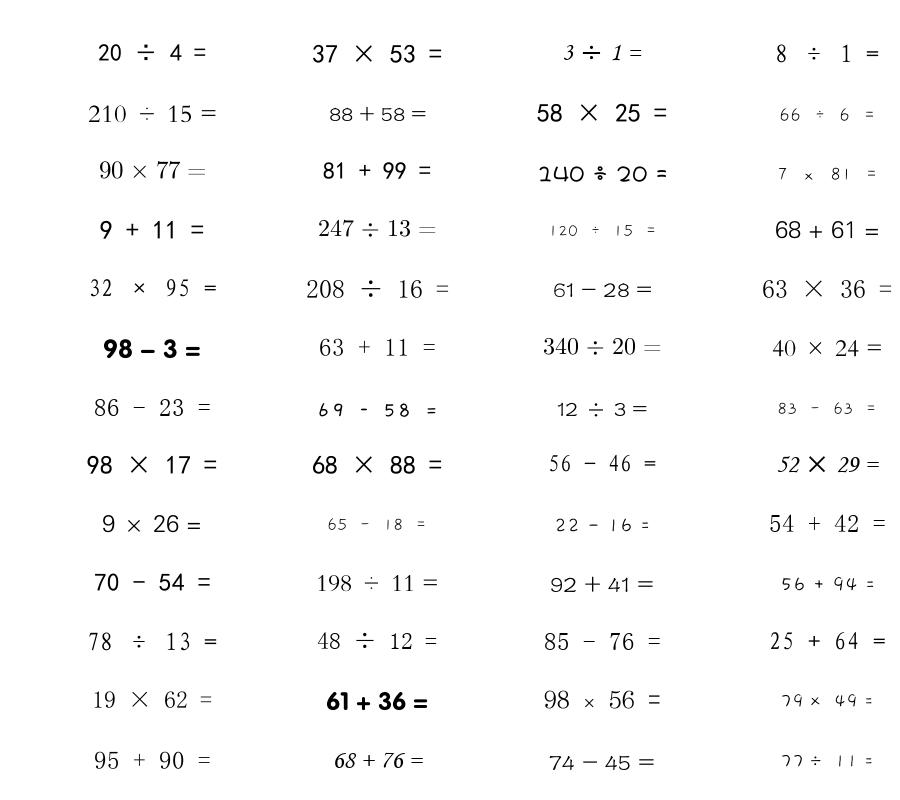MQ: (306, 279, 449, 298), (312, 44, 442, 63), (537, 103, 667, 122), (87, 455, 217, 474), (312, 455, 442, 474), (87, 632, 217, 651), (762, 280, 892, 298), (88, 105, 217, 123), (88, 279, 217, 297), (94, 573, 211, 592), (544, 690, 661, 709), (318, 219, 437, 237), (543, 337, 662, 355), (319, 338, 436, 356), (769, 514, 886, 532), (769, 632, 886, 650), (94, 751, 211, 769), (537, 166, 668, 182), (316, 575, 439, 592), (317, 632, 437, 649), (92, 691, 212, 708), (326, 691, 428, 711), (775, 220, 880, 239), (94, 399, 211, 416), (544, 633, 661, 650), (775, 44, 879, 63), (100, 220, 204, 239), (103, 339, 201, 359), (98, 44, 206, 62), (548, 454, 656, 472), (99, 161, 206, 179), (102, 514, 202, 533), (772, 340, 883, 357), (323, 162, 431, 179), (550, 576, 654, 593), (776, 456, 879, 473), (316, 403, 438, 417), (549, 755, 655, 771), (329, 106, 426, 122), (780, 576, 875, 592), (332, 752, 423, 768), (554, 518, 650, 533), (548, 224, 657, 237), (777, 167, 878, 181), (553, 283, 652, 297), (562, 44, 642, 61), (779, 108, 876, 122), (557, 402, 647, 417), (780, 694, 874, 708), (780, 754, 874, 768), (777, 402, 877, 415), (327, 518, 427, 531)
